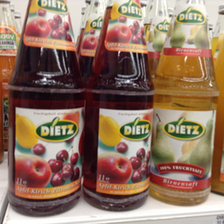juice: (8, 1, 85, 217), (84, 1, 154, 213), (152, 1, 219, 206)
